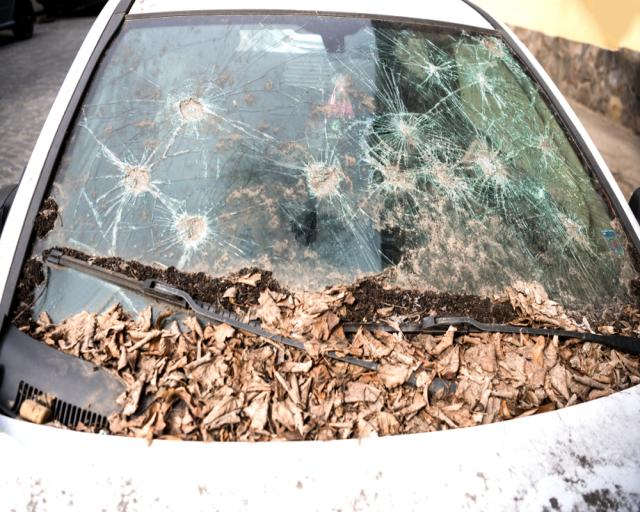glass shatter: (24, 14, 640, 312)
